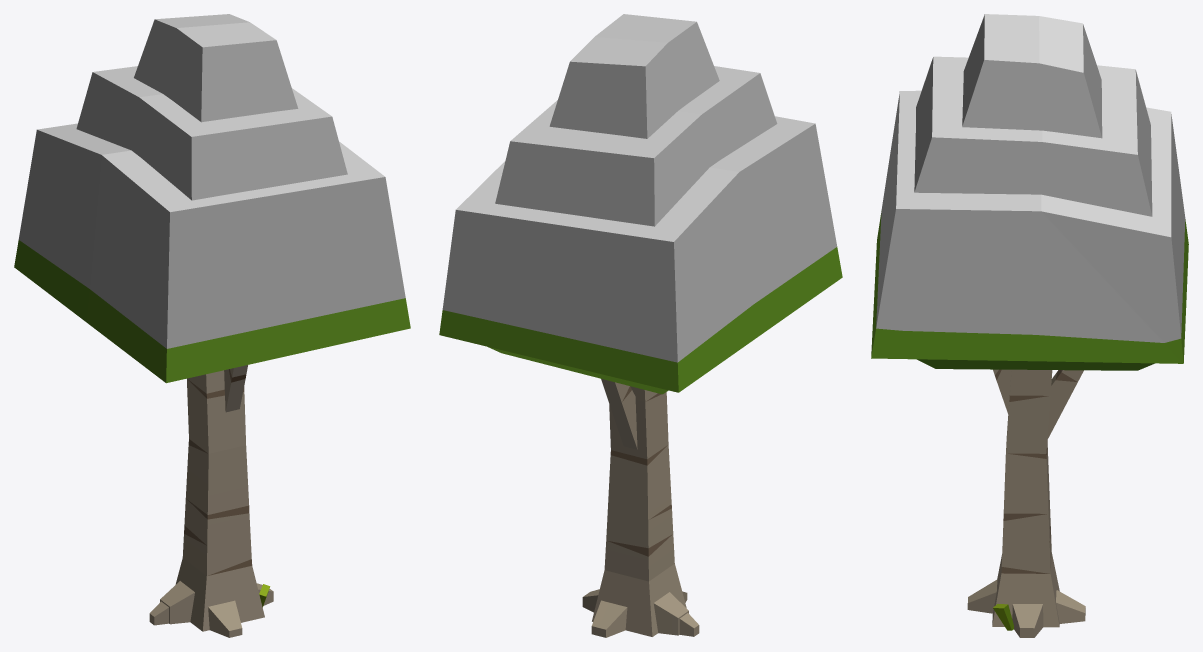
The model's file is SF_Env_Tree_Snow_06.fbx.
3 renders of one model, left to right at view 1: azimuth 30°, elevation 25°; view 2: azimuth 150°, elevation 25°; view 3: azimuth 270°, elevation 25°, orthographic.
Visible parts, largest first — view 1: SF_Env_Tree_Snow_06; view 2: SF_Env_Tree_Snow_06; view 3: SF_Env_Tree_Snow_06.
Boxes of the visible parts, x1,y1,x2,y2 form: SF_Env_Tree_Snow_06: [14, 14, 410, 637]; SF_Env_Tree_Snow_06: [439, 14, 842, 637]; SF_Env_Tree_Snow_06: [871, 14, 1188, 637].
Size of the model in its own units: 3.19 by 7.26 by 3.59.
